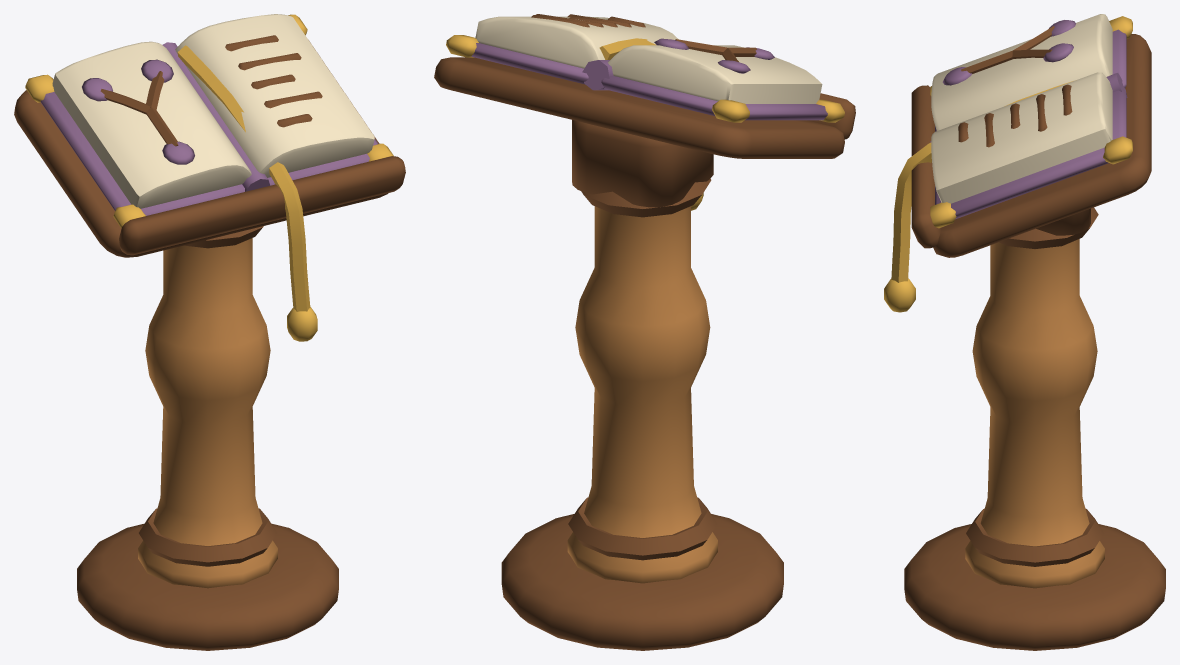
The model's file is ShopLineageBook.fbx.
3 views of the same model, side by side, from view 1: azimuth 30°, elevation 25°; view 2: azimuth 150°, elevation 25°; view 3: azimuth 270°, elevation 25° (orthographic). The views are drawn at different scales.
Parts seen in each view (by area): view 1: ShopLineageBook; view 2: ShopLineageBook; view 3: ShopLineageBook.
Boxes of the visible parts, box(x1,y1,x2,y2) form: ShopLineageBook: box(14, 14, 405, 650); ShopLineageBook: box(434, 14, 855, 650); ShopLineageBook: box(884, 14, 1165, 650).
Size of the model in its own units: 0.6 by 1.07 by 0.5049.
